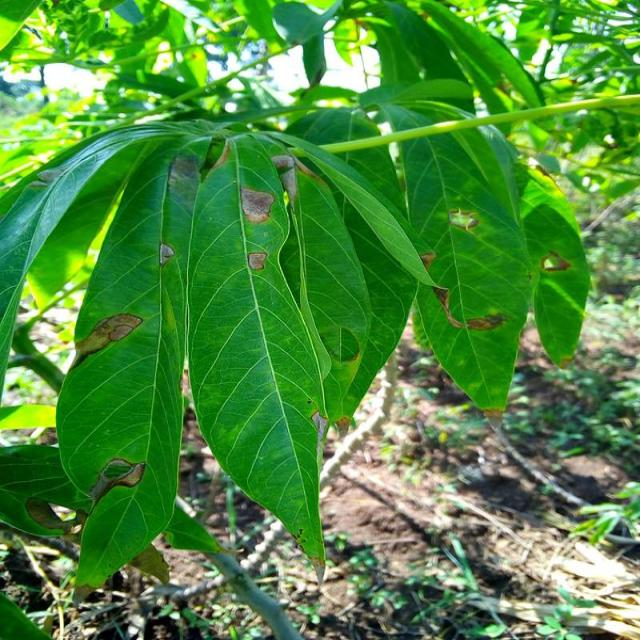cassava leaf: (54, 137, 204, 593), (185, 131, 330, 584), (388, 99, 534, 416), (514, 160, 590, 369)
